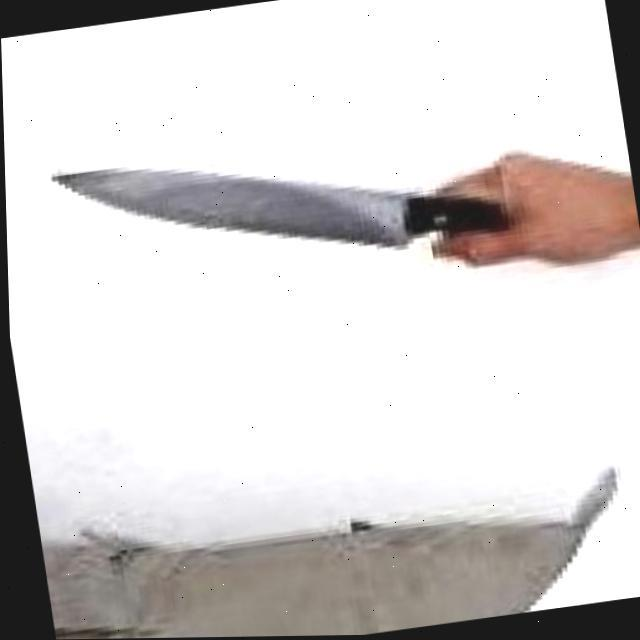knife: (48, 112, 506, 294)
